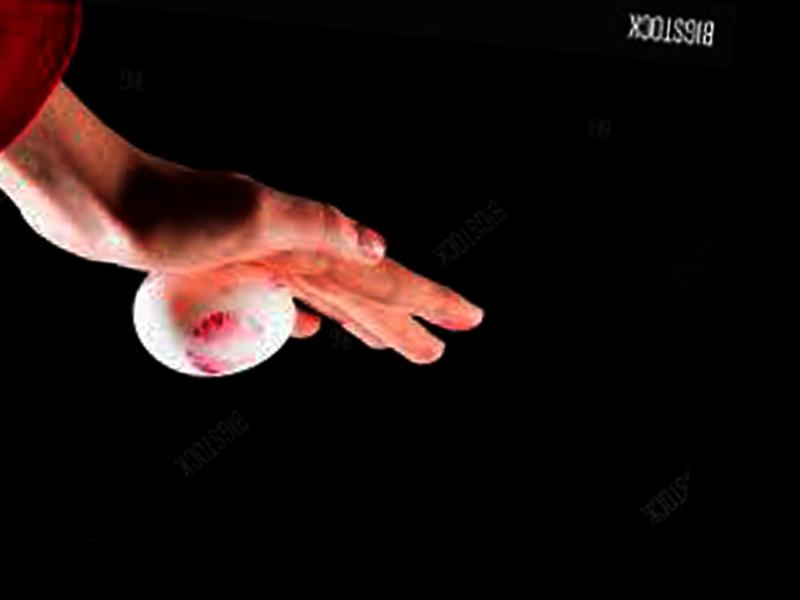Eggs: (124, 262, 294, 386)
